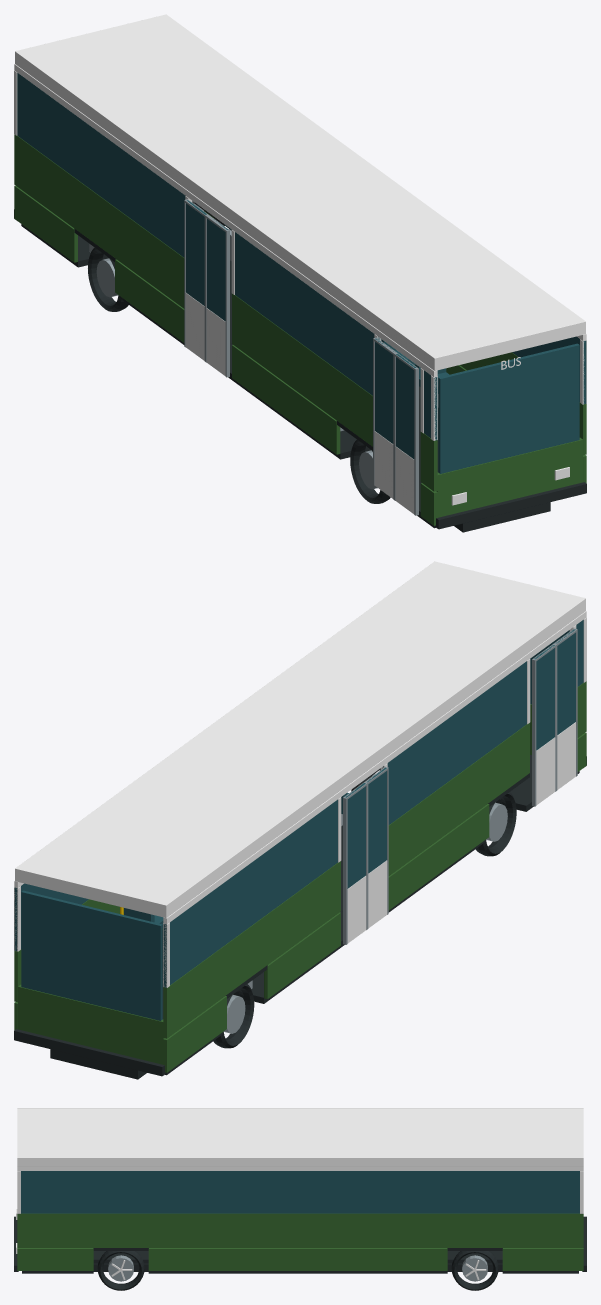
The model's file is singapore-public-bus.glb.
3 views of the same model, one above another, from view 1: azimuth 30°, elevation 25°; view 2: azimuth 150°, elevation 25°; view 3: azimuth 270°, elevation 25° (orthographic). The views are drawn at different scales.
Visible parts, largest first — view 1: Roof, End_Window, Window_Band.002, Side_Wall.002, Window_Band.001, Side_Wall.001, End_Lower, Lower_Body.001, Top_Rail, Lower_Body.002, Lower_Body.003, Bumper.001 (+18 smaller); view 2: Roof, End_Window.001, Window_Band.002, Side_Wall.002, Window_Band.001, Side_Wall.001, End_Lower.001, Lower_Body.001, Top_Rail, Lower_Body.002, Lower_Body.003, Bumper (+15 smaller); view 3: Roof, Window_Band.003, Side_Wall.003, Lower_Body.005, Top_Rail.001, Lower_Body.006, Lower_Body.004, Side_Floor.004, Tyre_RR, Tyre_FR, Centre_Low_Floor, Hub_RR (+2 smaller).
Boxes of the visible parts, <box> form: Roof: <box>15,14,585,370</box>; End_Window: <box>438,343,579,473</box>; Window_Band.002: <box>17,73,185,257</box>; Side_Wall.002: <box>14,134,184,308</box>; Window_Band.001: <box>235,232,380,395</box>; Side_Wall.001: <box>232,293,372,446</box>; End_Lower: <box>436,437,582,517</box>; Lower_Body.001: <box>232,345,340,454</box>; Top_Rail: <box>14,64,437,377</box>; Lower_Body.002: <box>115,259,184,342</box>; Lower_Body.003: <box>14,185,77,262</box>; Bumper.001: <box>435,482,586,529</box>; Roof: <box>15,561,585,917</box>; End_Window.001: <box>21,890,162,1020</box>; Window_Band.002: <box>163,799,337,987</box>; Side_Wall.002: <box>163,861,340,1038</box>; Window_Band.001: <box>382,661,526,824</box>; Side_Wall.001: <box>388,723,529,875</box>; End_Lower.001: <box>18,984,164,1064</box>; Lower_Body.001: <box>388,804,489,910</box>; Top_Rail: <box>163,611,586,924</box>; Lower_Body.002: <box>264,912,340,998</box>; Lower_Body.003: <box>163,996,226,1072</box>; Bumper: <box>14,1029,165,1076</box>; Roof: <box>17,1108,583,1166</box>; Window_Band.003: <box>21,1171,579,1213</box>; Side_Wall.003: <box>17,1213,583,1247</box>; Lower_Body.005: <box>148,1248,447,1270</box>; Top_Rail.001: <box>17,1166,583,1170</box>; Lower_Body.006: <box>502,1248,583,1270</box>; Lower_Body.004: <box>17,1248,93,1270</box>; Side_Floor.004: <box>148,1271,447,1273</box>; Tyre_RR: <box>451,1251,498,1290</box>; Tyre_FR: <box>97,1251,144,1290</box>; Centre_Low_Floor: <box>93,1251,502,1263</box>; Hub_RR: <box>462,1255,487,1281</box>.
Bounding box in the file's own units: 2.6 × 3.2 × 12.14.
